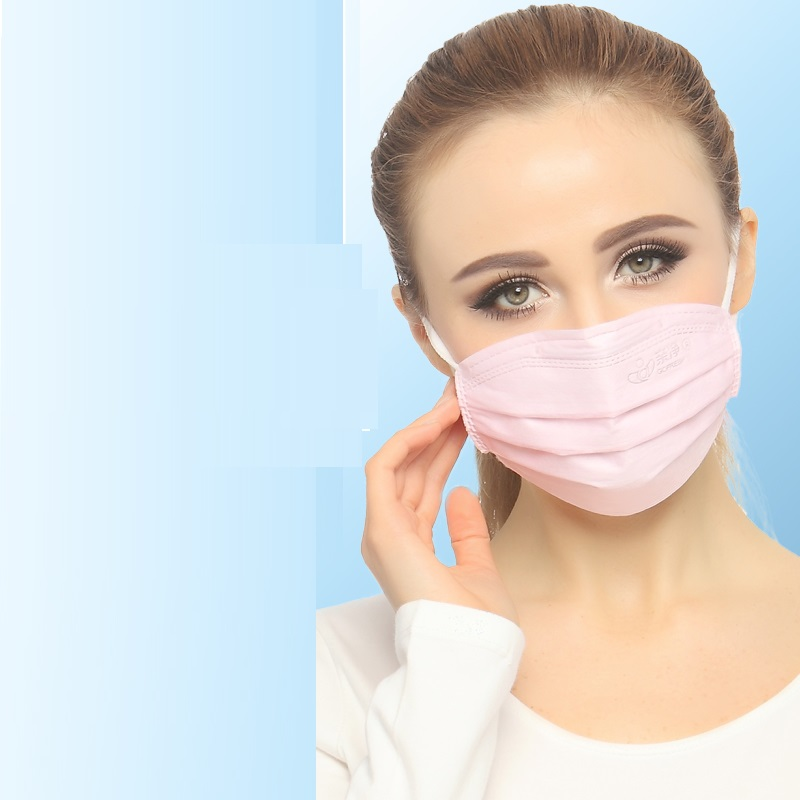face_mask: (432, 105, 734, 500)
